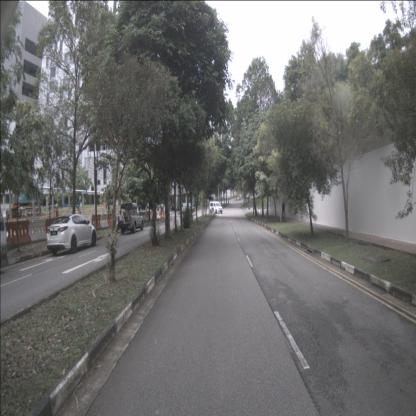barrier: (11, 220, 31, 246), (29, 219, 46, 243), (45, 216, 61, 240), (0, 221, 13, 249), (92, 214, 101, 230), (83, 214, 92, 230), (101, 213, 109, 229), (108, 213, 115, 227), (115, 213, 120, 226), (141, 212, 147, 221), (150, 210, 155, 220), (146, 211, 150, 220), (156, 210, 160, 218), (162, 210, 166, 218), (160, 210, 162, 218)
